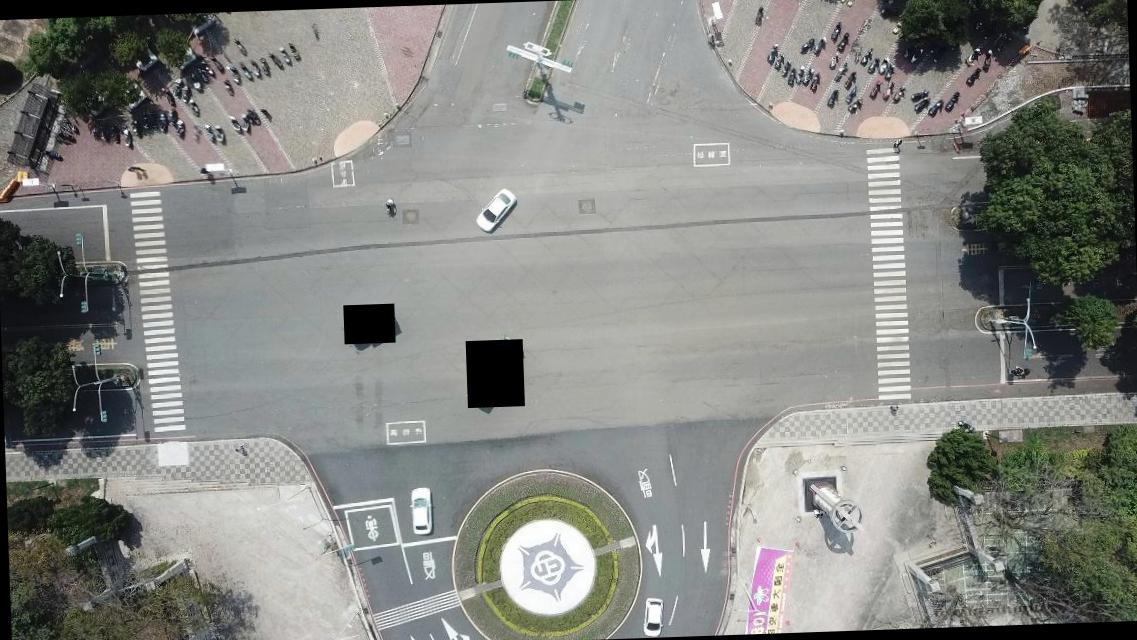vehicle: (475, 188, 518, 233), (408, 489, 431, 536), (642, 598, 664, 636)
